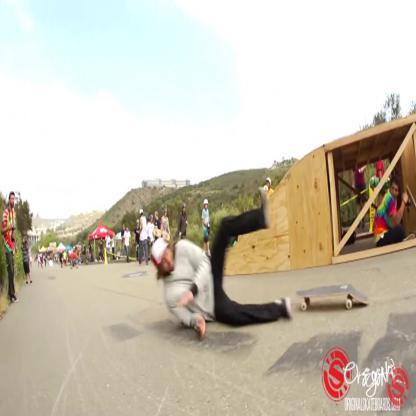Fall_Down: (150, 184, 294, 344)
